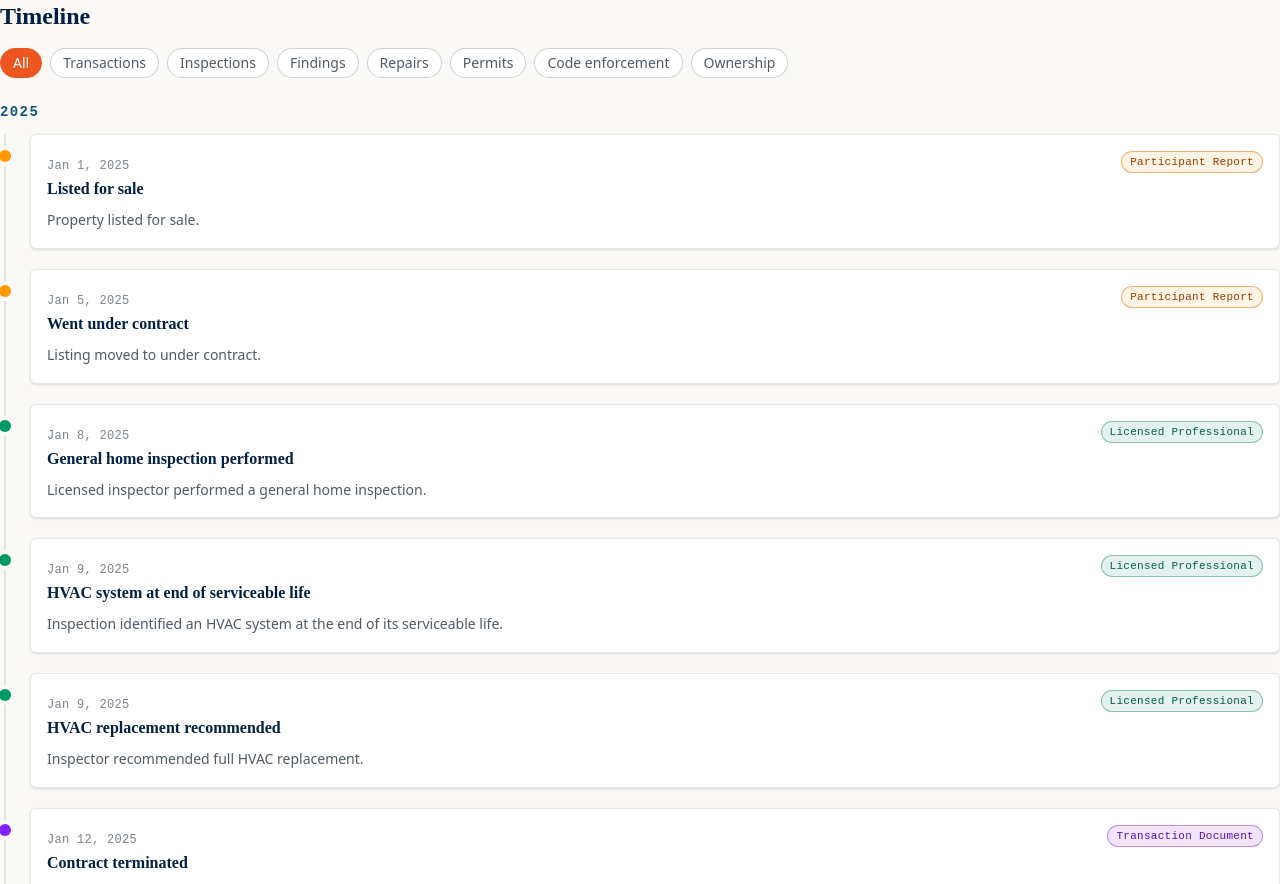
Test: Timeline › shows only permit events when the Permits filter tab is selected
Click the button "Permits" at x=488, y=63, box left=450, top=48, right=526, bottom=78
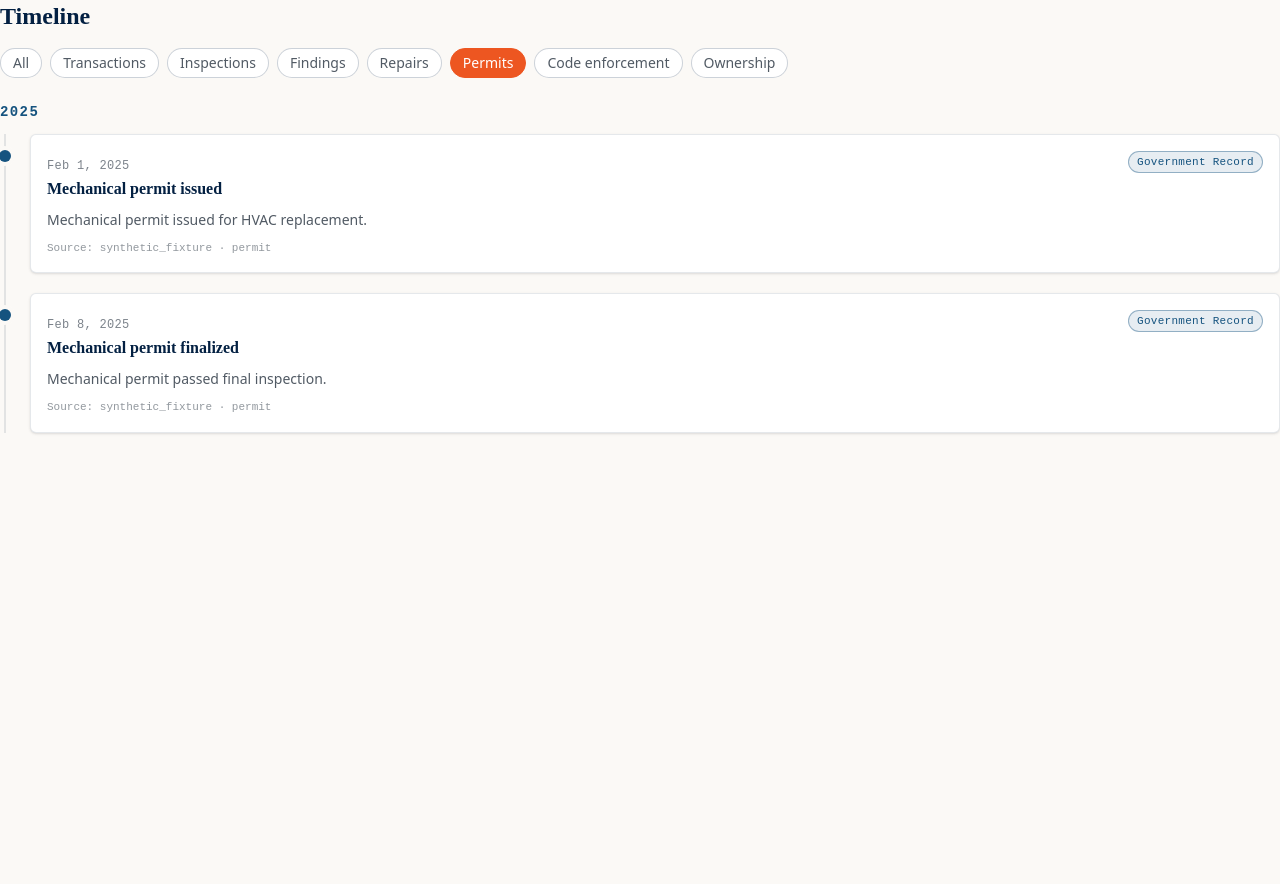
Check: the heading "Listed for sale" is gone
Check: the heading "General home inspection performed" is gone
Check: the heading "Contract terminated" is gone
